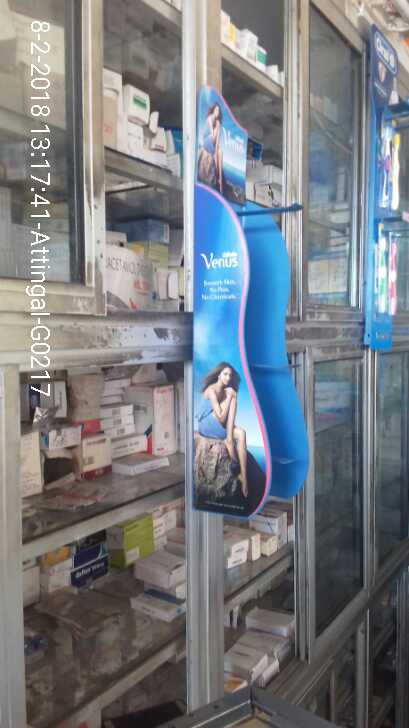reject: (126, 243, 237, 329)
